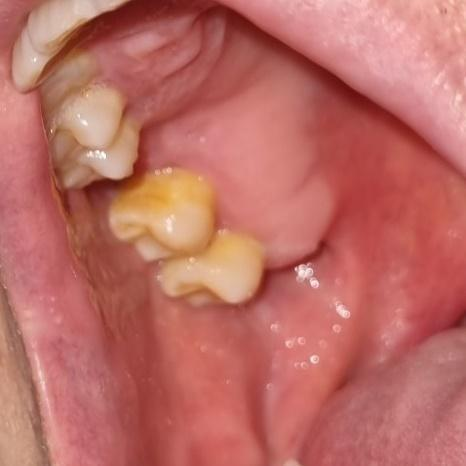Missing: (71, 140, 197, 243)
